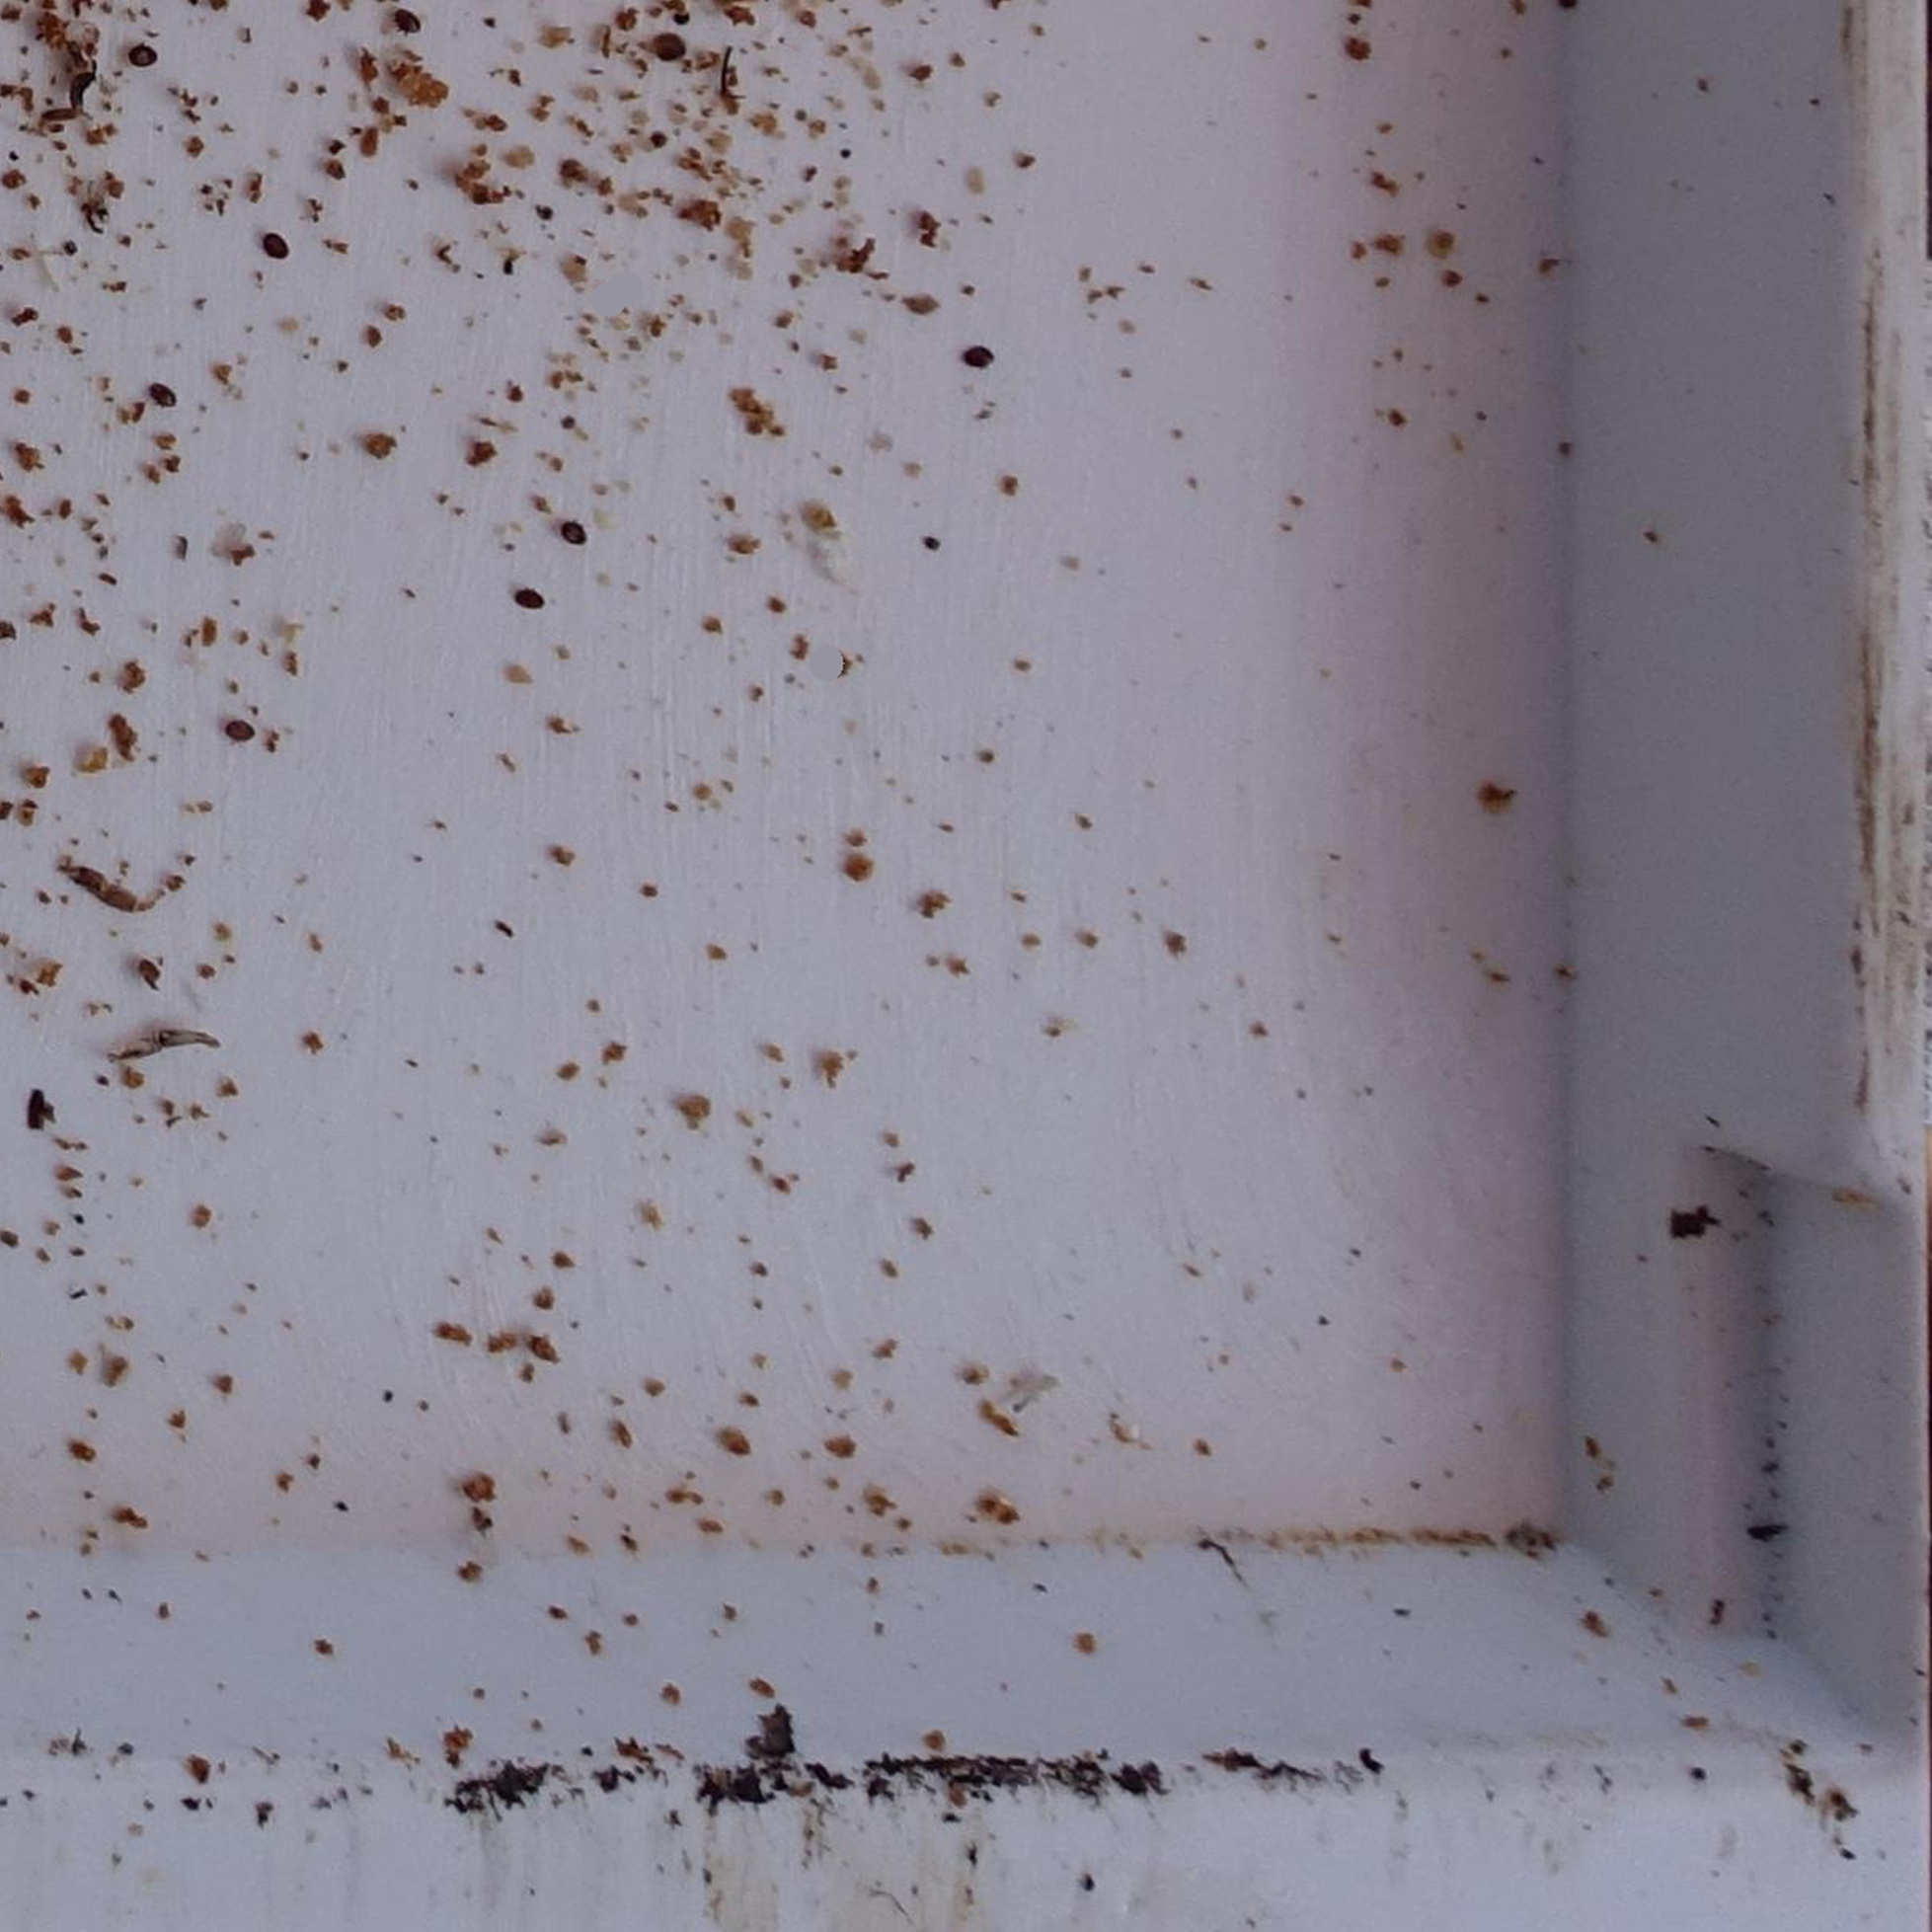Varroa: (147, 379, 177, 407), (515, 584, 543, 612), (957, 347, 984, 375), (395, 9, 421, 35), (257, 237, 283, 264), (221, 717, 246, 741), (563, 513, 587, 538), (138, 50, 154, 71)
